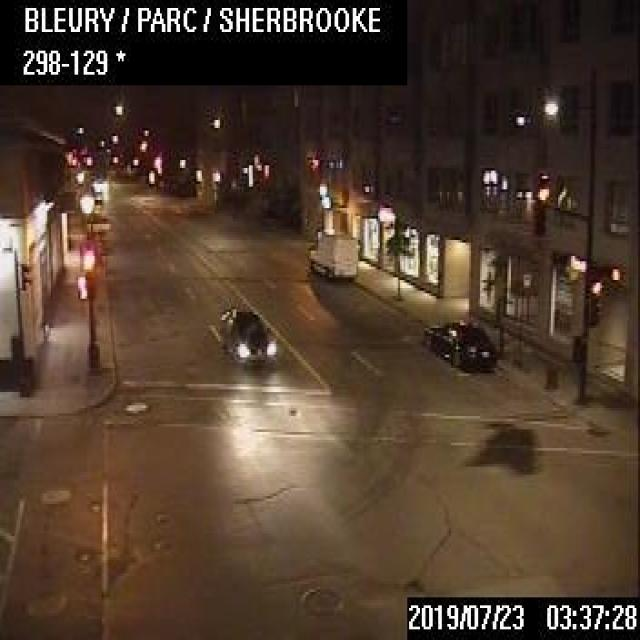vehicle: (421, 318, 495, 369), (218, 306, 276, 364), (307, 228, 356, 278)
